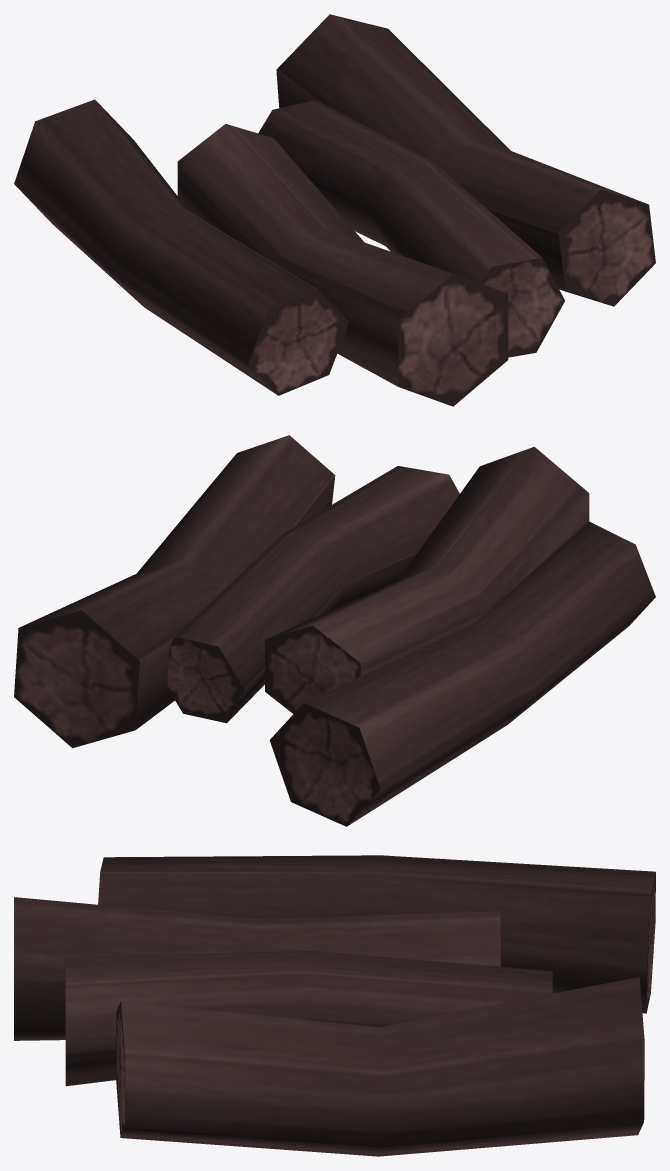
File: Log_stack_C.fbx
The picture shows the model from 3 angles, top to bottom: view 1: azimuth 30°, elevation 25°; view 2: azimuth 150°, elevation 25°; view 3: azimuth 270°, elevation 25°; orthographic projection. The views are drawn at different scales.
Visible parts, largest first — view 1: Log_stack_C; view 2: Log_stack_C; view 3: Log_stack_C.
Boxes of the visible parts, x1=… form: Log_stack_C: x1=14, y1=14, x2=655, y2=406; Log_stack_C: x1=14, y1=435, x2=655, y2=826; Log_stack_C: x1=14, y1=855, x2=655, y2=1156.
Bounding box in the file's own units: 0.1333 × 0.0467 × 0.1613.
